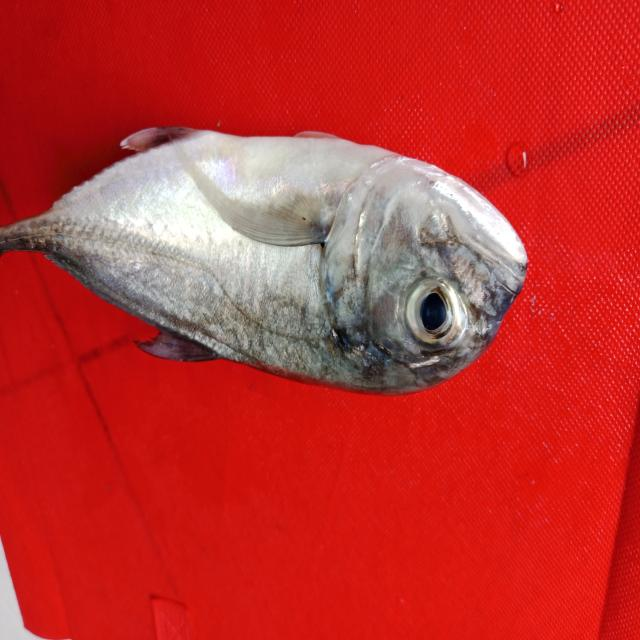ikan: (6, 99, 538, 422)
